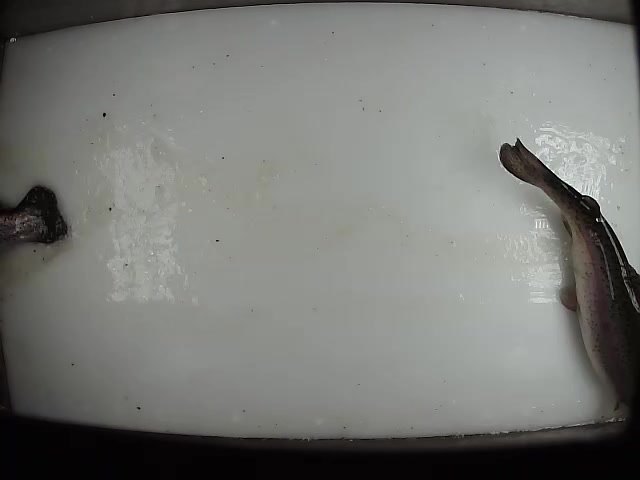fish: (498, 136, 640, 411)
